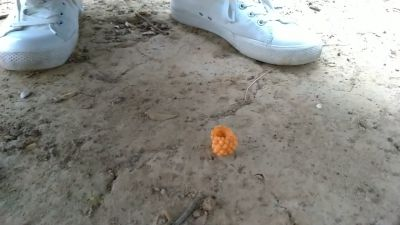eggs: (208, 124, 242, 160)
